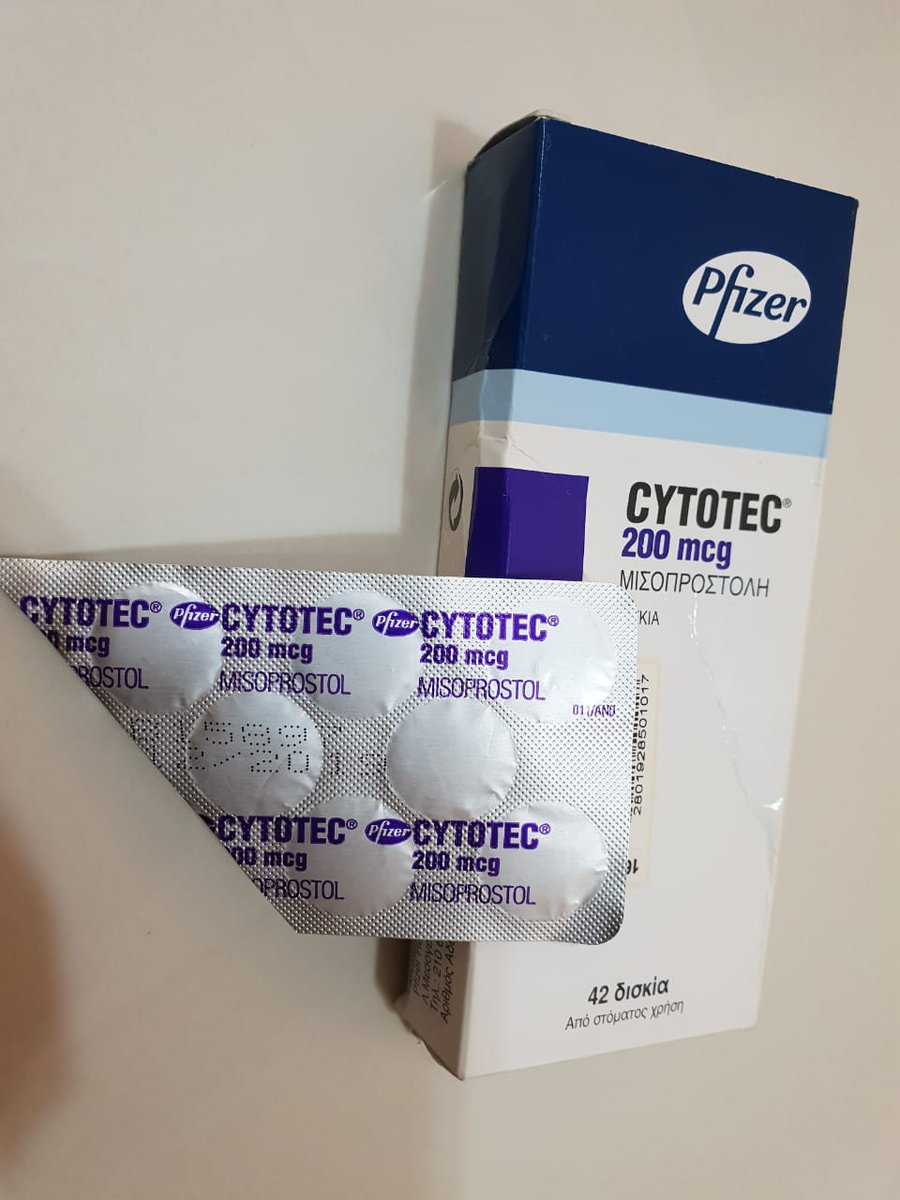Medicine: (433, 103, 850, 1087)
